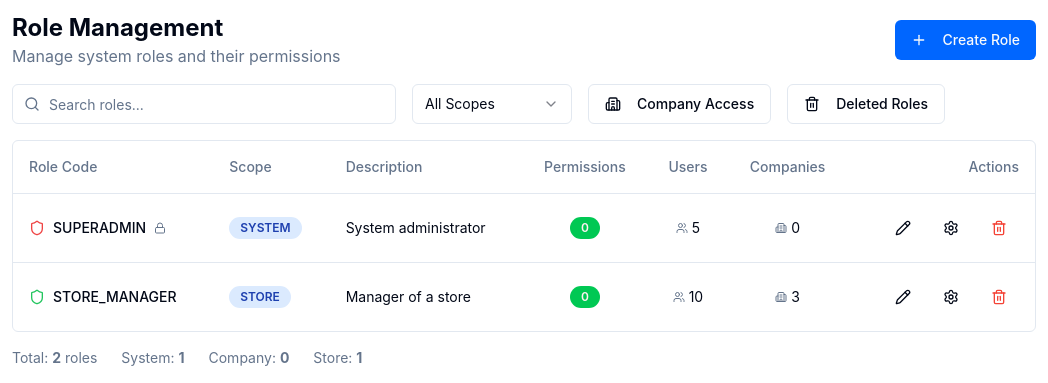
Test case: 2.93-COMPONENT: AdminRoleList - Filtering › [P1] 2.93-COMPONENT-010: should filter roles by search query
This screenshot has width=1048, height=383.
# User types in search box
Type "STORE" into the field with placeholder "Search roles..." at (204,104), box [12,84,396,124]
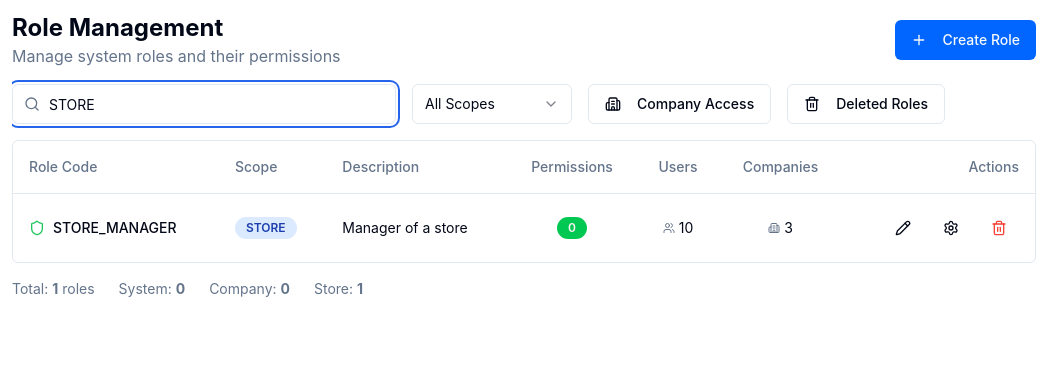
Expected: the text "STORE_MANAGER" is shown, [53,218,177,238]
Now the text "SUPERADMIN" is gone
